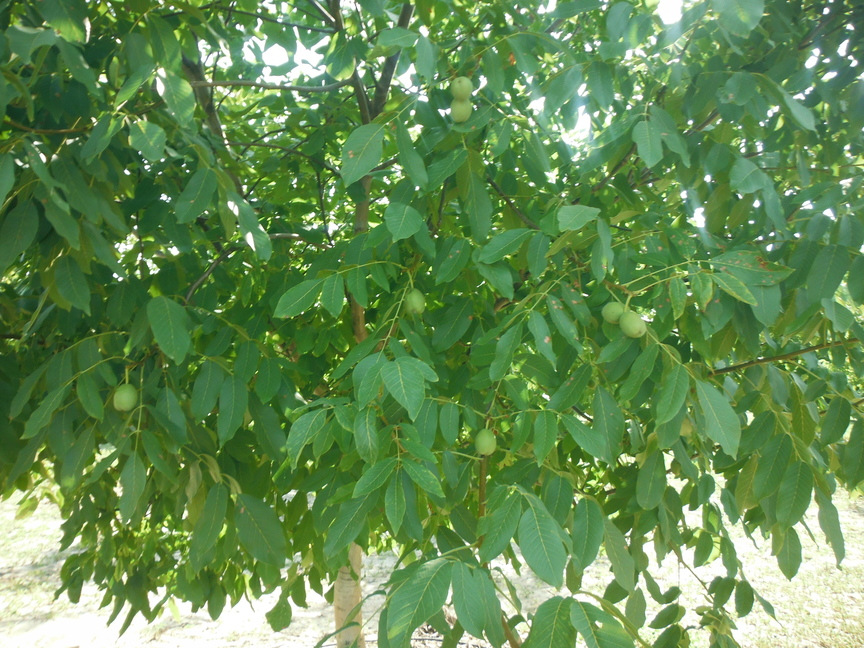walnut: (105, 377, 145, 417), (616, 299, 653, 340), (469, 419, 503, 462), (594, 293, 635, 326), (400, 279, 429, 321), (446, 71, 475, 102), (448, 96, 475, 126)
